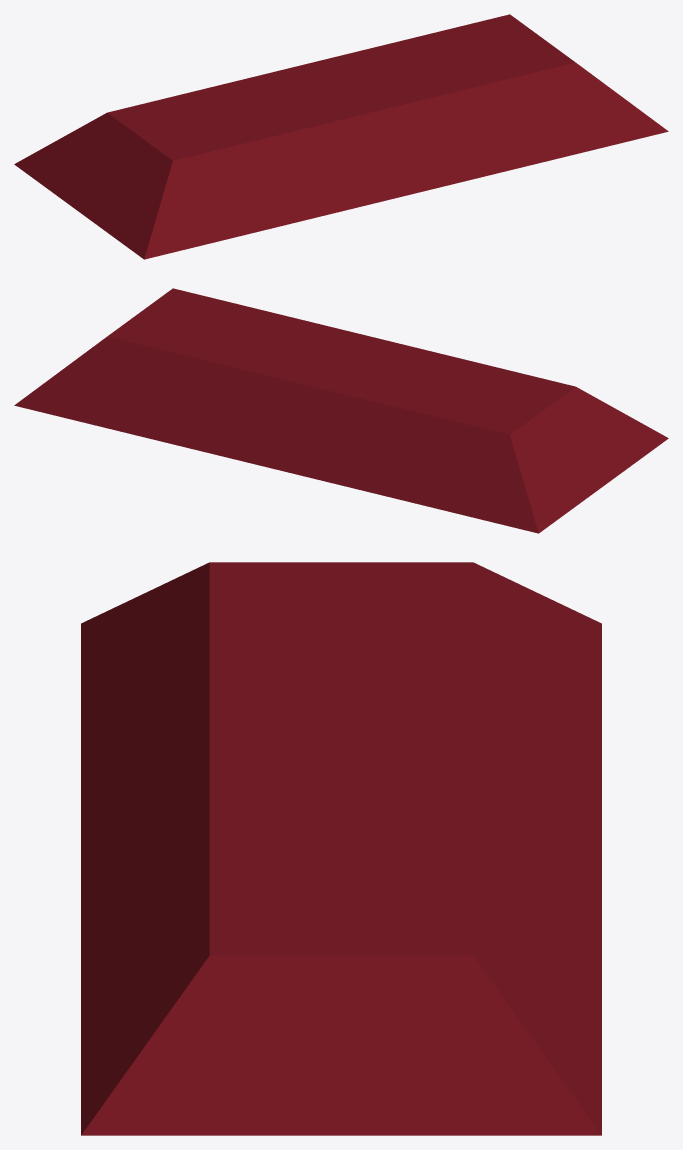
File: CrimsonBar.glb
3 views of the same model, one above another, from view 1: azimuth 30°, elevation 25°; view 2: azimuth 150°, elevation 25°; view 3: azimuth 270°, elevation 25° (orthographic). The views are drawn at different scales.
Visible parts, largest first — view 1: MithrilBar; view 2: MithrilBar; view 3: MithrilBar.
Part boxes in pixels (box(x1,y1,x2,y2)): MithrilBar: box(14, 14, 668, 259); MithrilBar: box(14, 288, 668, 533); MithrilBar: box(81, 562, 601, 1135).
Bounding box in the file's own units: 4.19 × 0.4602 × 1.8.
